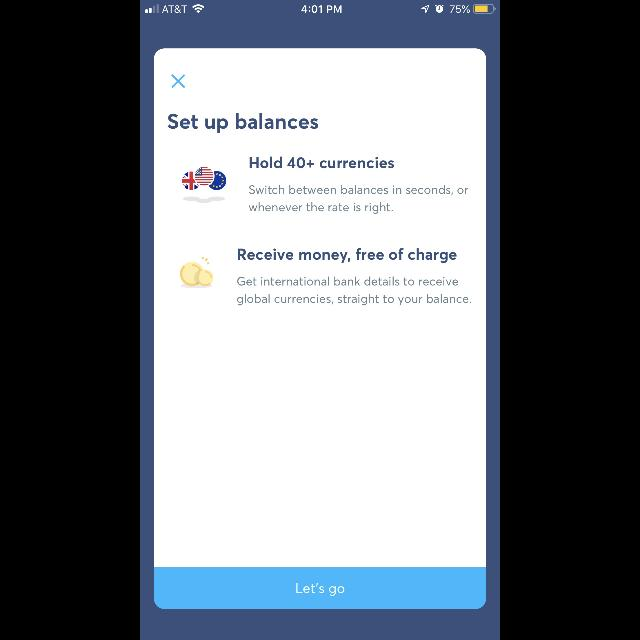icon: (172, 74, 186, 88)
image: (182, 167, 226, 203), (180, 258, 214, 288)
text: (237, 276, 471, 306), (250, 186, 468, 214), (238, 248, 457, 264), (168, 113, 318, 133), (250, 156, 394, 168)
textbutton: (154, 567, 486, 609)
uppertaskbar: (140, 0, 500, 14)
